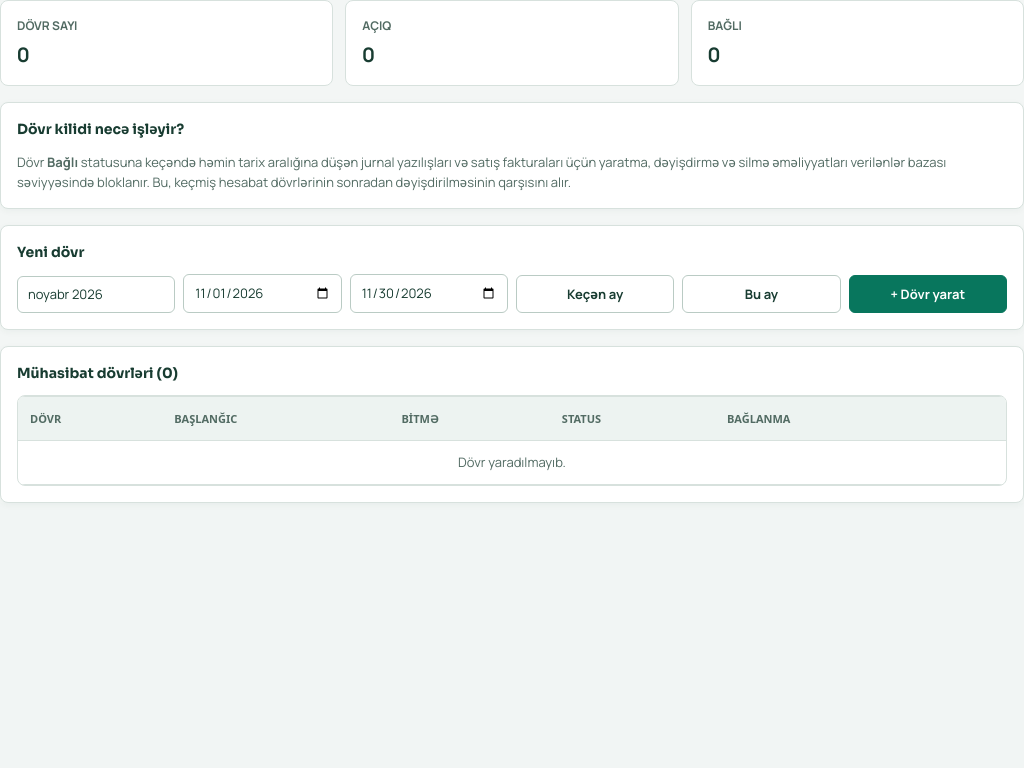
Scenario: accounting periods page › shows the server error and hides admin actions from members
The image size is (1024, 768).
Click the button "+ Dövr yarat" at (928, 294), box x1=849 y1=275 x2=1007 y2=313
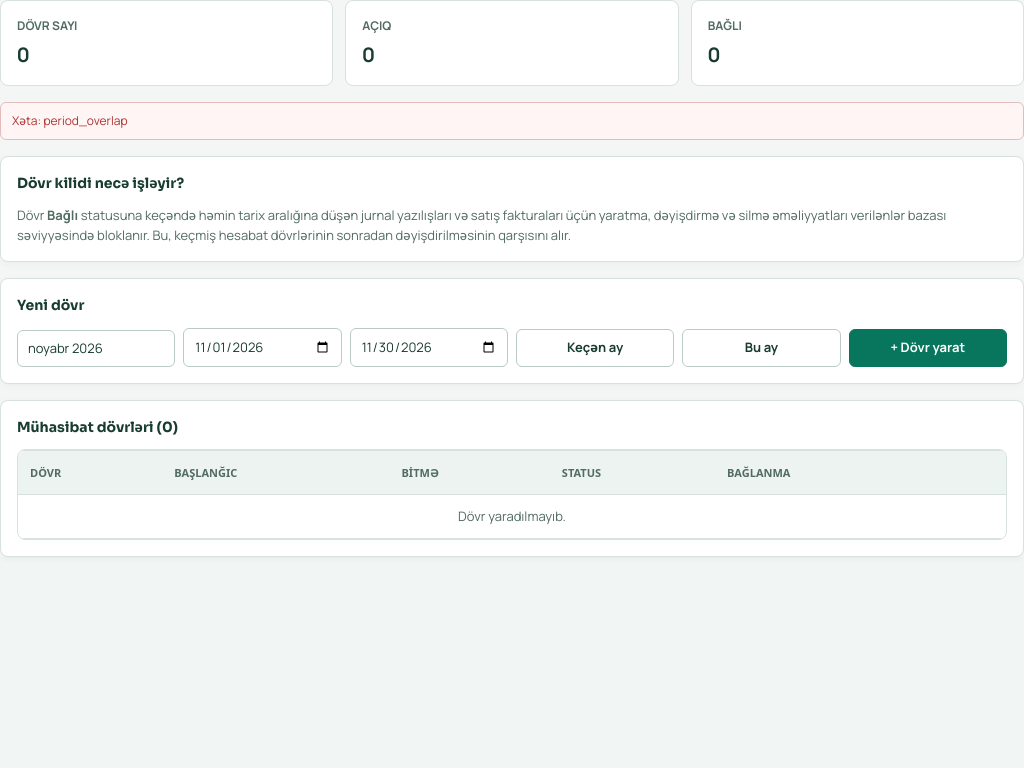
Now the text "Xəta: period_overlap" is shown, box x1=0 y1=102 x2=1023 y2=140
